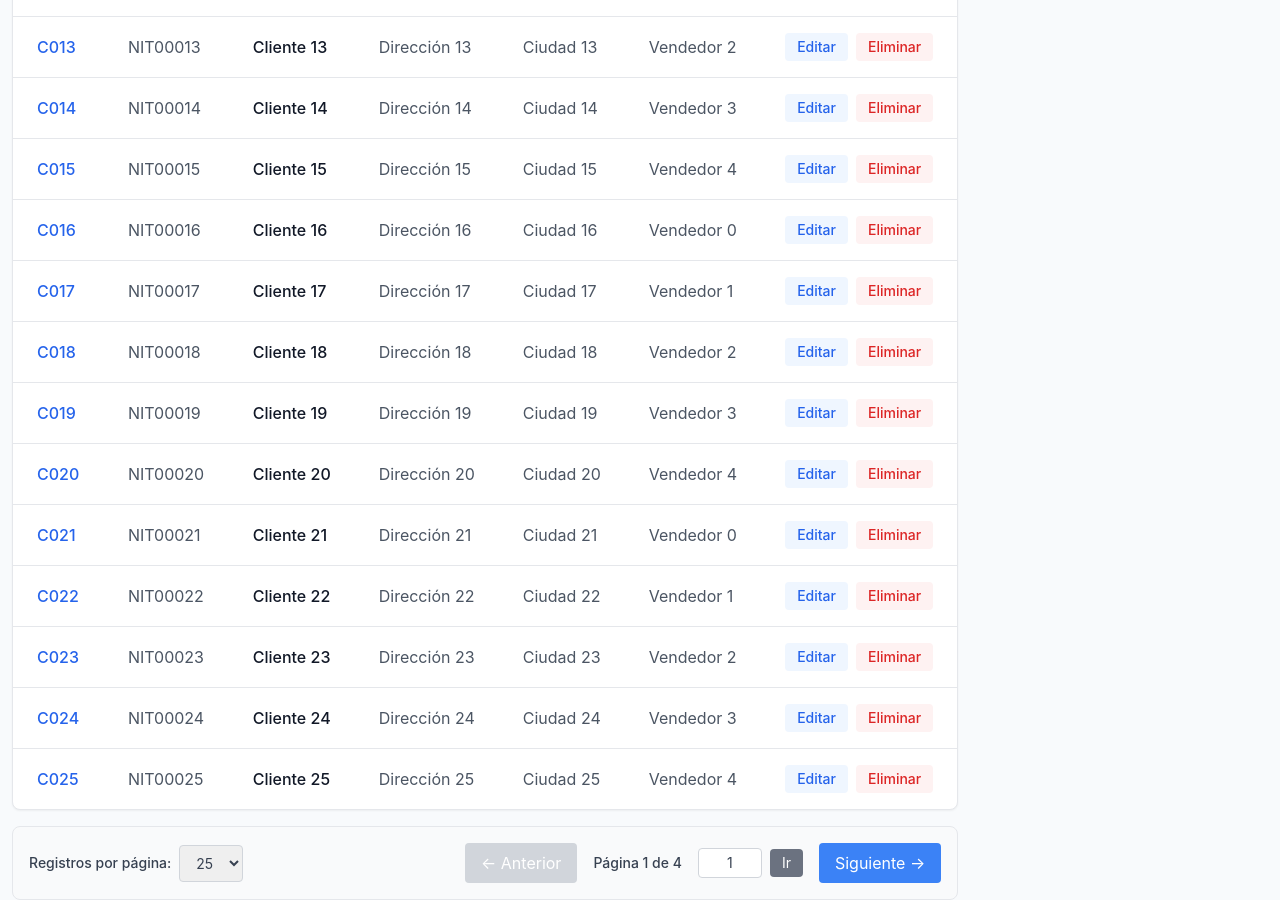
Test case: ClientsModule Unit Tests › Search/Filters › should reset to page 1 when searching
(page scrolled)
// Go to page 2
Click the button "Siguiente →": (880, 863) [819,843,941,883]
(page scrolled)
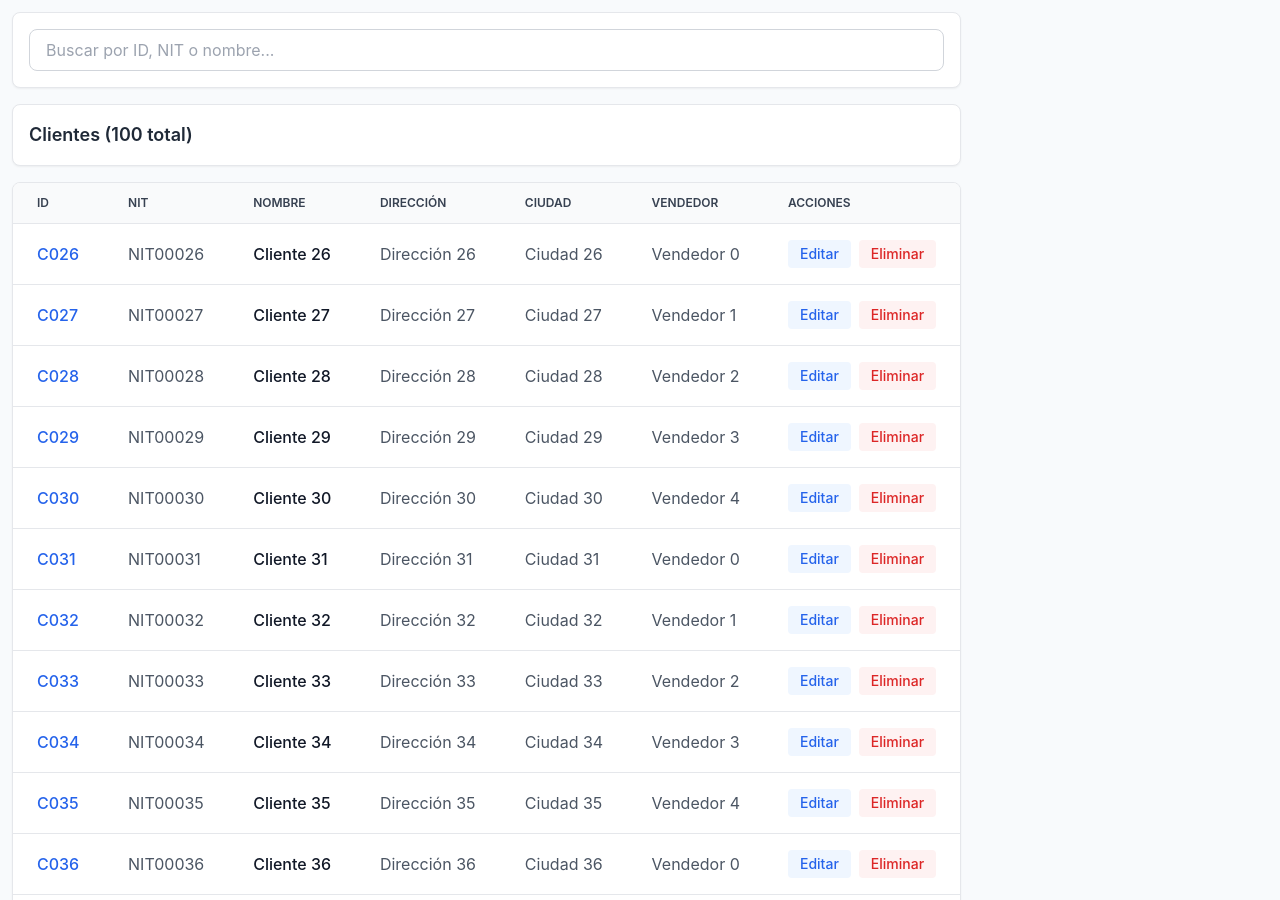
In the field with placeholder "Buscar por ID, NIT o nombre...": (487, 50) [29,29,944,71], type "Cliente 1"
(page scrolled)
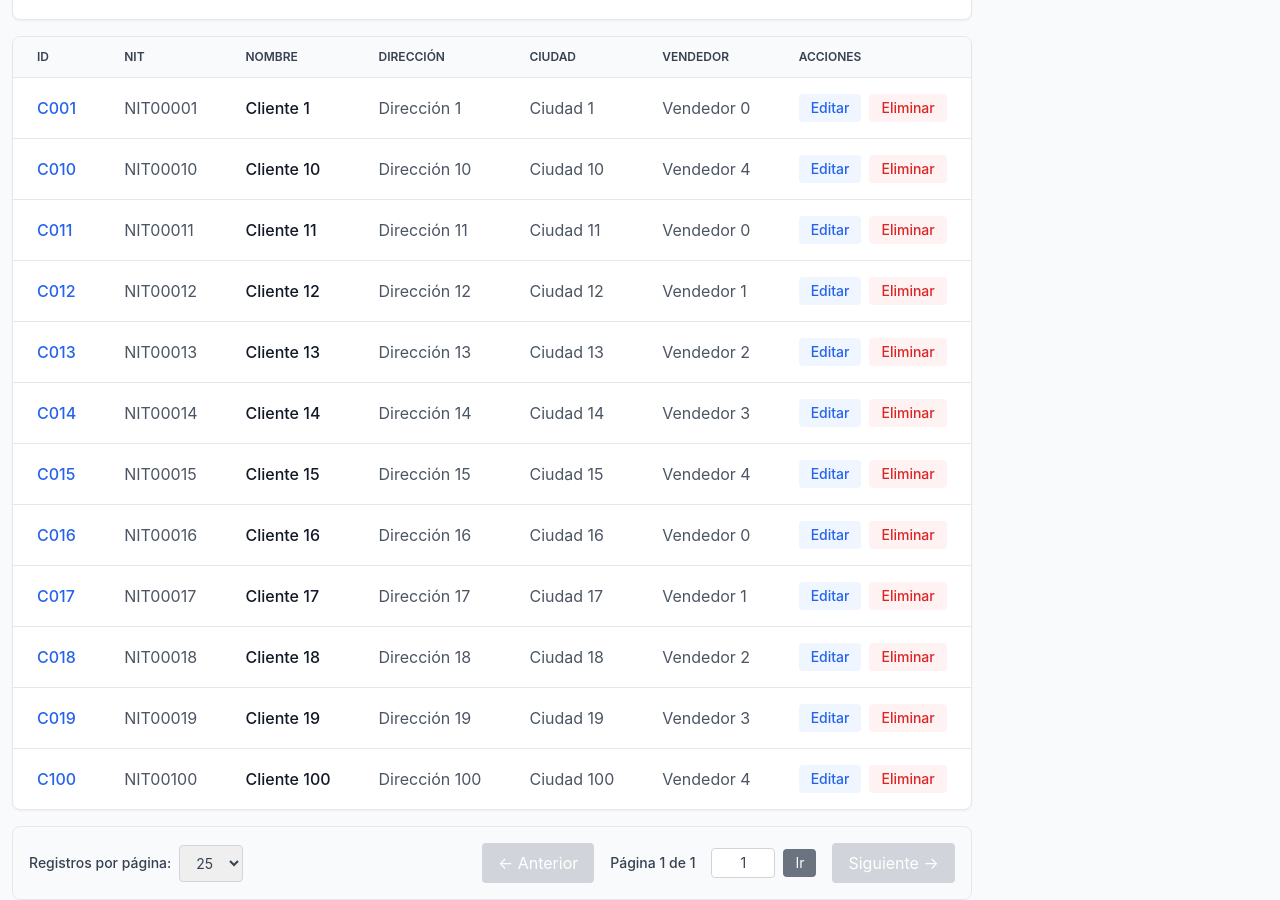
Check: the text "Página 1 de 1" is shown, box [610,853,696,873]
